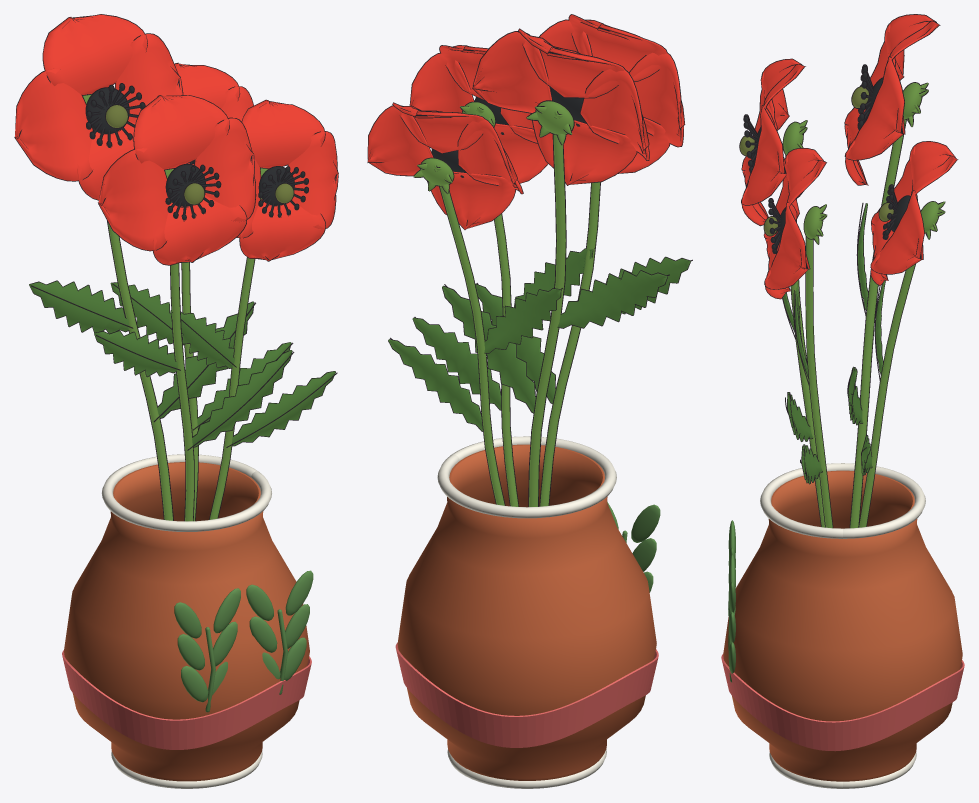
Rendered from vase_poppy_flowers.glb.
3 renders of one model, left to right at view 1: azimuth 30°, elevation 25°; view 2: azimuth 150°, elevation 25°; view 3: azimuth 270°, elevation 25°, orthographic. The views are drawn at different scales.
Visible parts, largest first — view 1: Terracotta_poppy_body, poppy_Geometry.001, poppy_Geometry.002, poppy_Geometry, Wavy_coral_glaze, poppy_Geometry.003, Cream_poppy_rim, Cream_poppy_foot, Relief_leaf.011, Relief_leaf.005, Relief_leaf.002, Relief_leaf.001 (+6 smaller); view 2: Terracotta_poppy_body, poppy_Geometry.002, poppy_Geometry.003, poppy_Geometry.001, poppy_Geometry, Wavy_coral_glaze, Cream_poppy_rim, Cream_poppy_foot, Relief_leaf.002; view 3: Terracotta_poppy_body, poppy_Geometry.002, poppy_Geometry.003, poppy_Geometry, poppy_Geometry.001, Wavy_coral_glaze, Cream_poppy_rim, Cream_poppy_foot.
Part boxes in pixels (x1=…): Terracotta_poppy_body: x1=64, y1=462, x2=309, y2=781; poppy_Geometry.001: x1=94, y1=95, x2=294, y2=521; poppy_Geometry.002: x1=14, y1=14, x2=255, y2=520; poppy_Geometry: x1=170, y1=99, x2=338, y2=519; Wavy_coral_glaze: x1=62, y1=650, x2=311, y2=749; poppy_Geometry.003: x1=110, y1=62, x2=293, y2=521; Cream_poppy_rim: x1=101, y1=454, x2=271, y2=531; Cream_poppy_foot: x1=111, y1=751, x2=262, y2=788; Relief_leaf.011: x1=285, y1=570, x2=313, y2=615; Relief_leaf.005: x1=213, y1=588, x2=240, y2=633; Relief_leaf.002: x1=174, y1=602, x2=201, y2=638; Relief_leaf.001: x1=177, y1=634, x2=204, y2=670; Terracotta_poppy_body: x1=397, y1=444, x2=656, y2=780; poppy_Geometry.002: x1=442, y1=28, x2=669, y2=506; poppy_Geometry.003: x1=367, y1=102, x2=562, y2=505; poppy_Geometry.001: x1=475, y1=14, x2=692, y2=506; poppy_Geometry: x1=409, y1=45, x2=594, y2=506; Wavy_coral_glaze: x1=395, y1=643, x2=658, y2=747; Cream_poppy_rim: x1=437, y1=436, x2=616, y2=518; Cream_poppy_foot: x1=447, y1=749, x2=606, y2=788; Relief_leaf.002: x1=631, y1=504, x2=660, y2=542; Terracotta_poppy_body: x1=723, y1=470, x2=962, y2=781; poppy_Geometry.002: x1=844, y1=14, x2=940, y2=528; poppy_Geometry.003: x1=858, y1=141, x2=958, y2=527; poppy_Geometry: x1=763, y1=148, x2=833, y2=528; poppy_Geometry.001: x1=739, y1=58, x2=824, y2=527; Wavy_coral_glaze: x1=721, y1=654, x2=964, y2=751; Cream_poppy_rim: x1=760, y1=463, x2=925, y2=538; Cream_poppy_foot: x1=769, y1=752, x2=916, y2=788.
Bounding box in the file's own units: 0.1687 × 0.4247 × 0.132.
